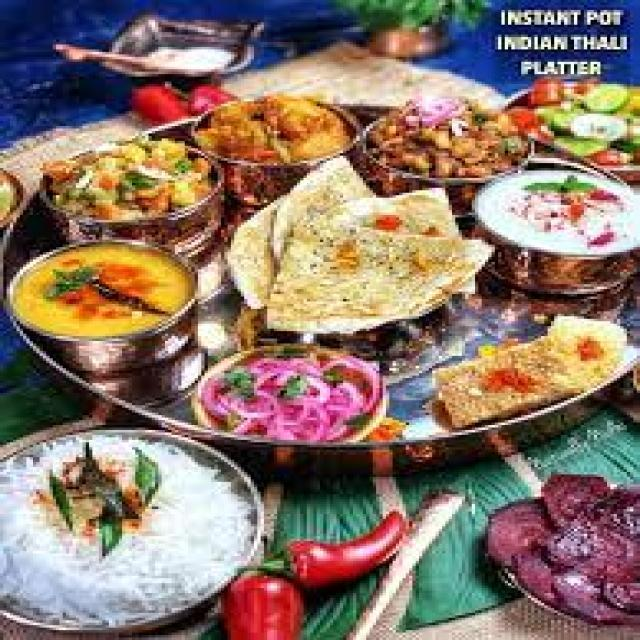papad: (228, 167, 483, 339)
rice: (12, 438, 270, 628)
roti: (228, 160, 481, 345)
sambar-rasam: (351, 18, 448, 65)
veg-fry: (424, 312, 620, 438), (353, 81, 530, 202), (5, 237, 204, 343), (184, 82, 361, 177)
